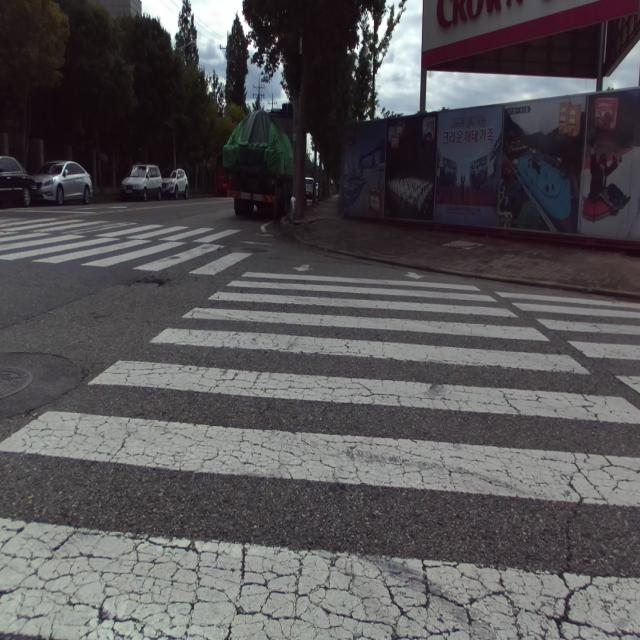횡단보도: (0, 264, 640, 640), (0, 213, 251, 263)
